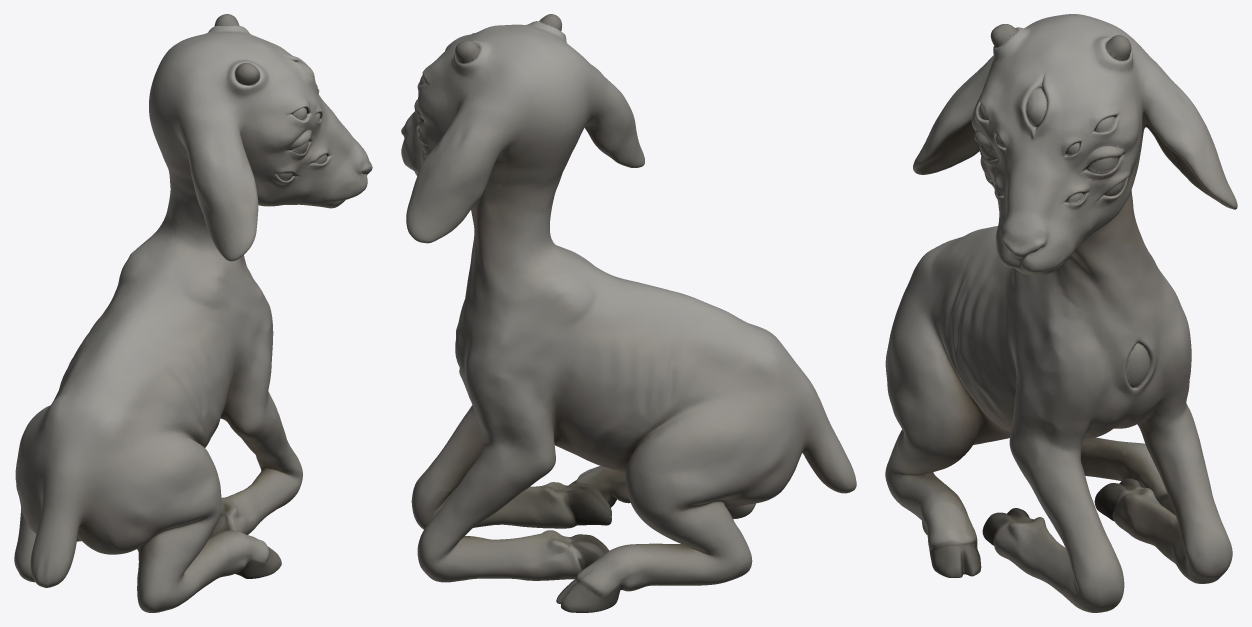
The model's file is creature_larval.glb.
The picture shows the model from 3 angles, left to right: view 1: azimuth 30°, elevation 25°; view 2: azimuth 150°, elevation 25°; view 3: azimuth 270°, elevation 25°; orthographic projection. The views are drawn at different scales.
Visible parts, largest first — view 1: tripo_node_ddf942fc-b348-4eb4-88ad-88767e049d83; view 2: tripo_node_ddf942fc-b348-4eb4-88ad-88767e049d83; view 3: tripo_node_ddf942fc-b348-4eb4-88ad-88767e049d83.
Boxes of the visible parts, <box> form: tripo_node_ddf942fc-b348-4eb4-88ad-88767e049d83: <box>14,14,372,612</box>; tripo_node_ddf942fc-b348-4eb4-88ad-88767e049d83: <box>401,14,856,612</box>; tripo_node_ddf942fc-b348-4eb4-88ad-88767e049d83: <box>885,14,1237,612</box>.
Bounding box in the file's own units: 0.8204 × 1 × 0.5763.
1 material, 1 textured.
